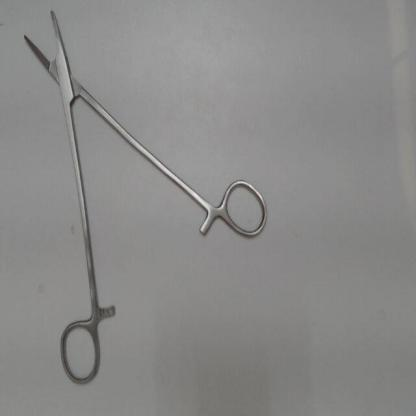8 Mayo Needle Holder: (12, 2, 279, 394)
